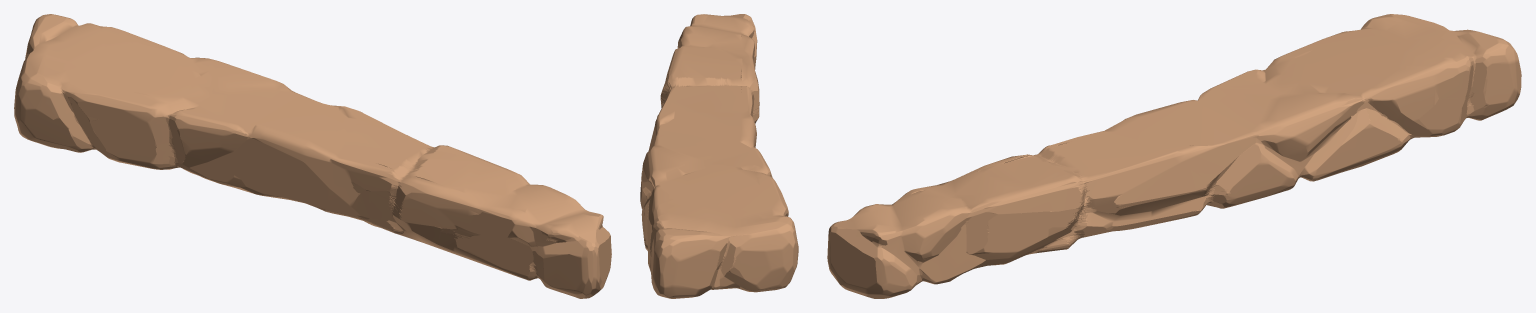
3 renders of one model, left to right at view 1: azimuth 30°, elevation 25°; view 2: azimuth 150°, elevation 25°; view 3: azimuth 270°, elevation 25°, orthographic. The views are drawn at different scales.
Parts seen in each view (by area): view 1: Mesh_29_LOD0; view 2: Mesh_29_LOD0; view 3: Mesh_29_LOD0.
Part boxes in pixels (<box>): Mesh_29_LOD0: <box>14,14,611,298</box>; Mesh_29_LOD0: <box>640,14,798,298</box>; Mesh_29_LOD0: <box>827,14,1521,298</box>.
Size of what is drawn, in the model's own units: 3313 by 1051 by 5267.
